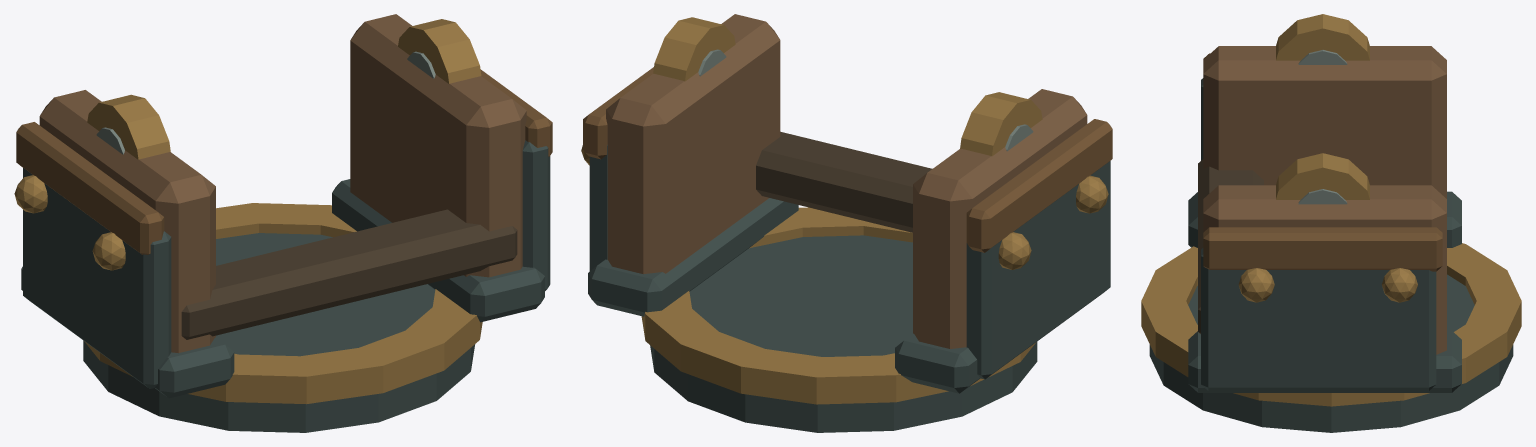
File: gun_mount_4.glb
The picture shows the model from 3 angles, left to right: view 1: azimuth 30°, elevation 25°; view 2: azimuth 150°, elevation 25°; view 3: azimuth 270°, elevation 25°; orthographic projection. The views are drawn at different scales.
Visible parts, largest first — view 1: Metal, Timber; view 2: Metal, Timber; view 3: Metal, Timber.
Boxes of the visible parts, x1,y1,x2,y2 form: Metal: (14,19,552,432); Timber: (39,14,526,353); Metal: (581,17,1112,432); Timber: (606,14,1087,348); Metal: (1141,14,1521,432); Timber: (1198,46,1446,354).
Bounding box in the file's own units: 2.23 × 1.37 × 1.78.
